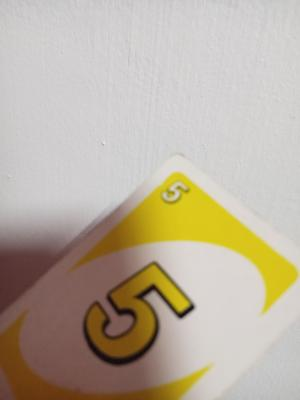num_5: (65, 255, 207, 381)
yellow: (157, 176, 197, 245)
